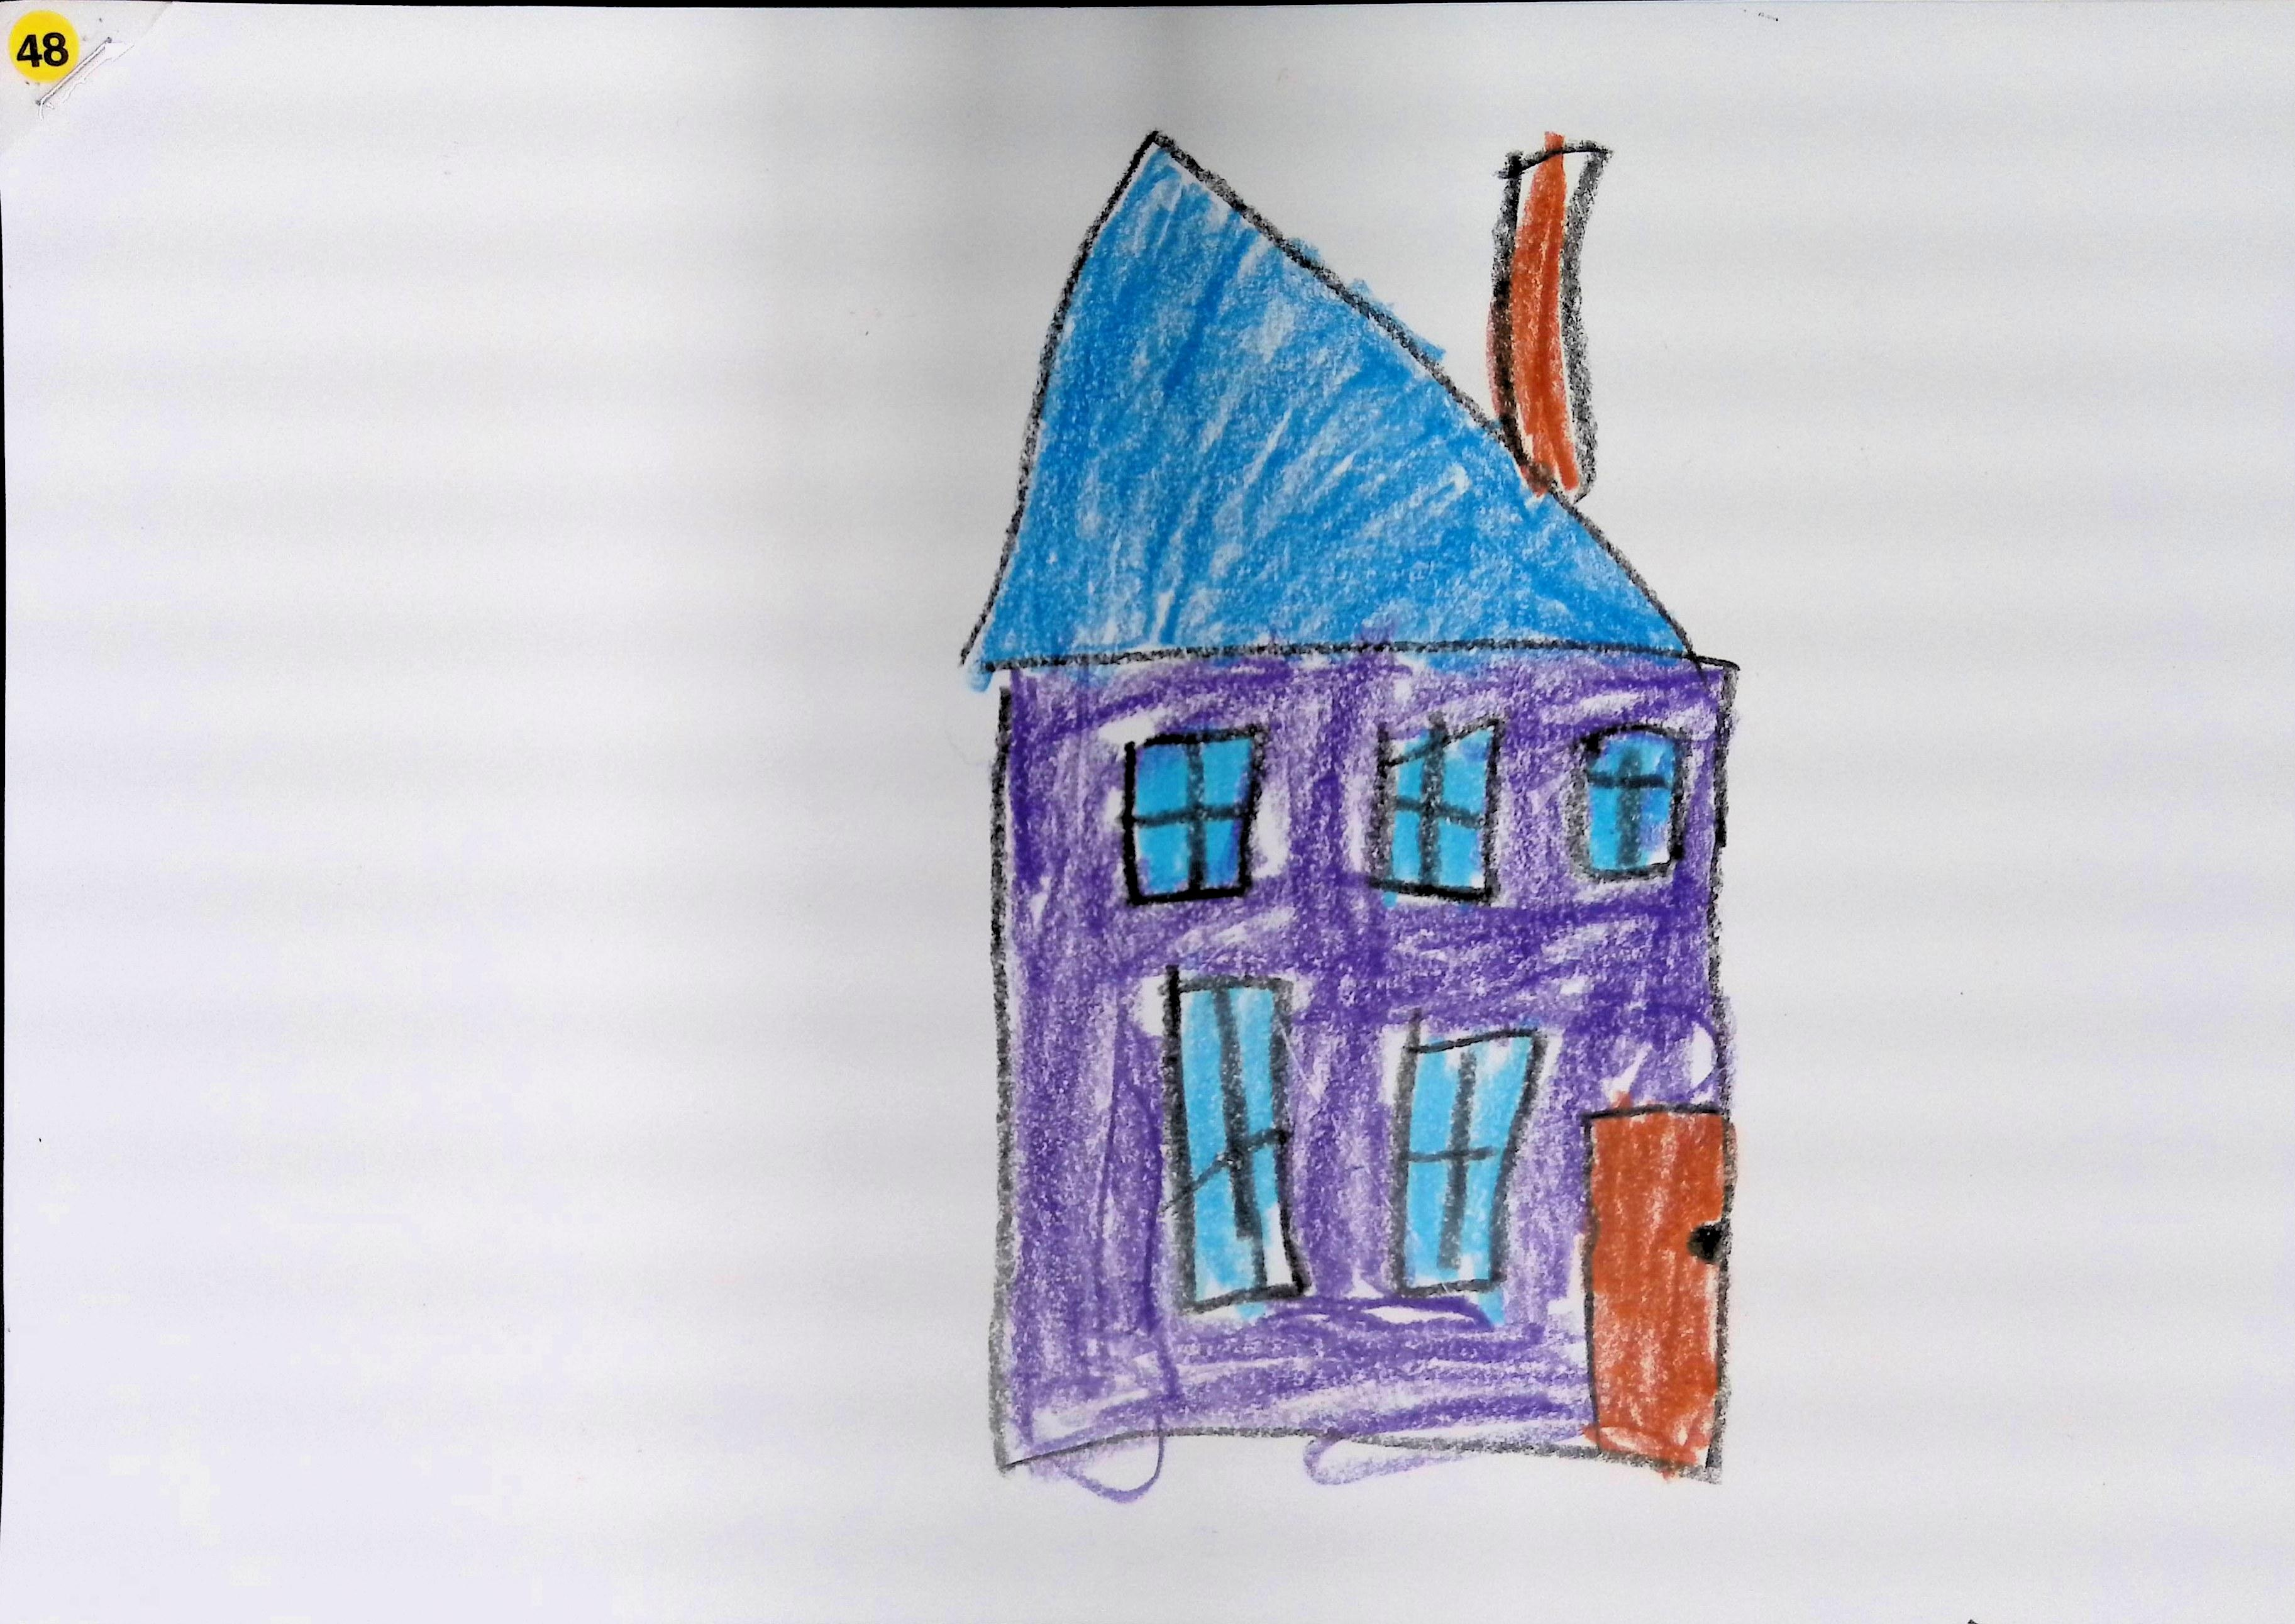chimney: (1490, 139, 1608, 517)
door: (1589, 1111, 1733, 1469)
house: (952, 120, 1731, 1476)
roof: (967, 132, 1690, 682)
wall: (993, 642, 1733, 1469)
window: (1172, 979, 1304, 1309), (1399, 1032, 1541, 1295), (1125, 729, 1262, 900), (1376, 721, 1501, 896), (1590, 729, 1680, 874)
